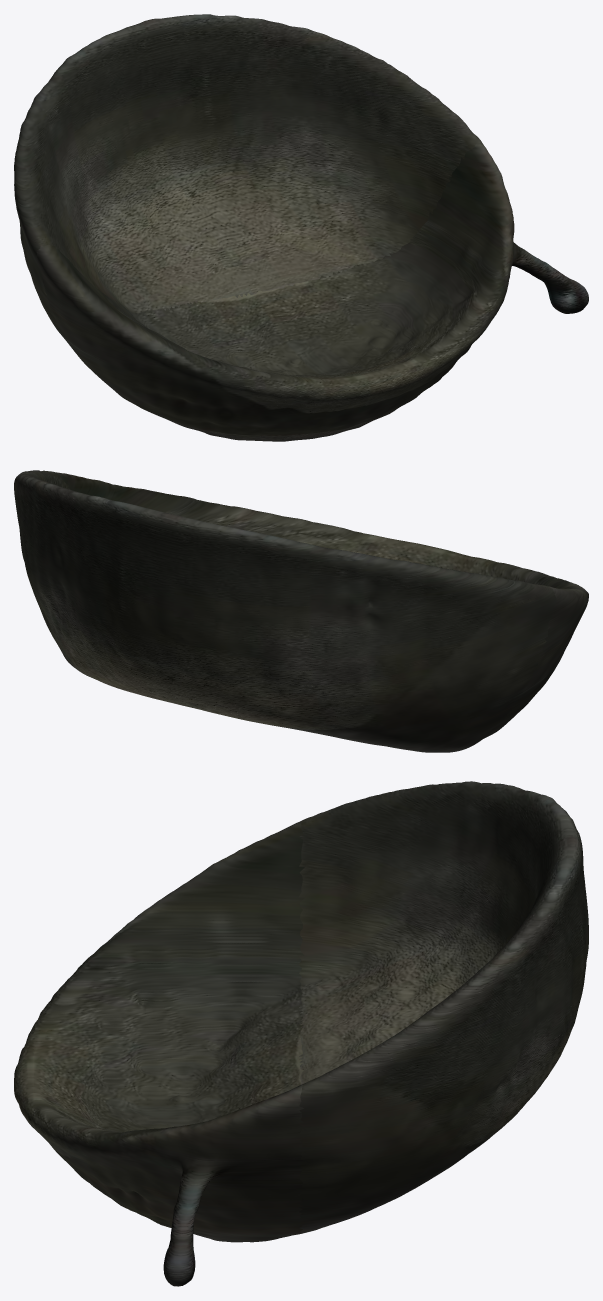
File: kfl-2255.glb
The picture shows the model from 3 angles, top to bottom: view 1: azimuth 30°, elevation 25°; view 2: azimuth 150°, elevation 25°; view 3: azimuth 270°, elevation 25°; orthographic projection. The views are drawn at different scales.
Parts seen in each view (by area): view 1: geometry_0; view 2: geometry_0; view 3: geometry_0.
Boxes of the visible parts, box(x1,y1,x2,y2) form: geometry_0: box(14, 14, 588, 441); geometry_0: box(14, 470, 588, 752); geometry_0: box(14, 781, 588, 1286).
Bounding box in the file's own units: 0.9899 × 0.5599 × 0.8102.
Materials: 1 (1 with a texture image).
